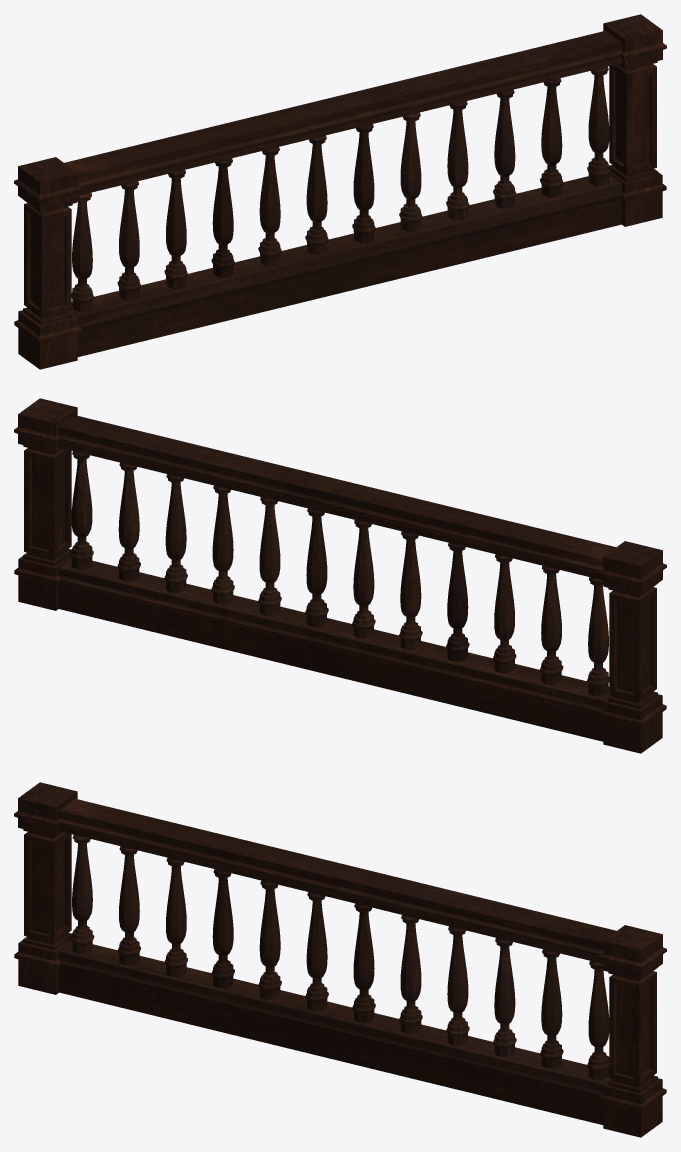
The model's file is SK7 RAILING LONG.fbx.
3 views of the same model, one above another, from view 1: azimuth 30°, elevation 25°; view 2: azimuth 150°, elevation 25°; view 3: azimuth 330°, elevation 25° (orthographic).
Parts seen in each view (by area): view 1: SK7 RAILING LONG; view 2: SK7 RAILING LONG; view 3: SK7 RAILING LONG.
Boxes of the visible parts, x1,y1,x2,y2 form: SK7 RAILING LONG: (14,14,666,369); SK7 RAILING LONG: (14,398,666,753); SK7 RAILING LONG: (14,782,666,1137).
Bounding box in the file's own units: 399 × 114 × 27.43.
